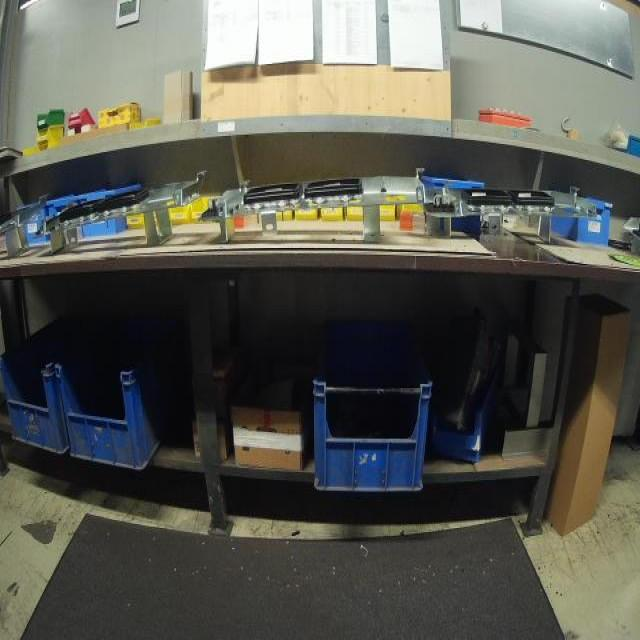small_load_carrier: (61, 322, 185, 476), (7, 306, 122, 461), (311, 359, 430, 491)
